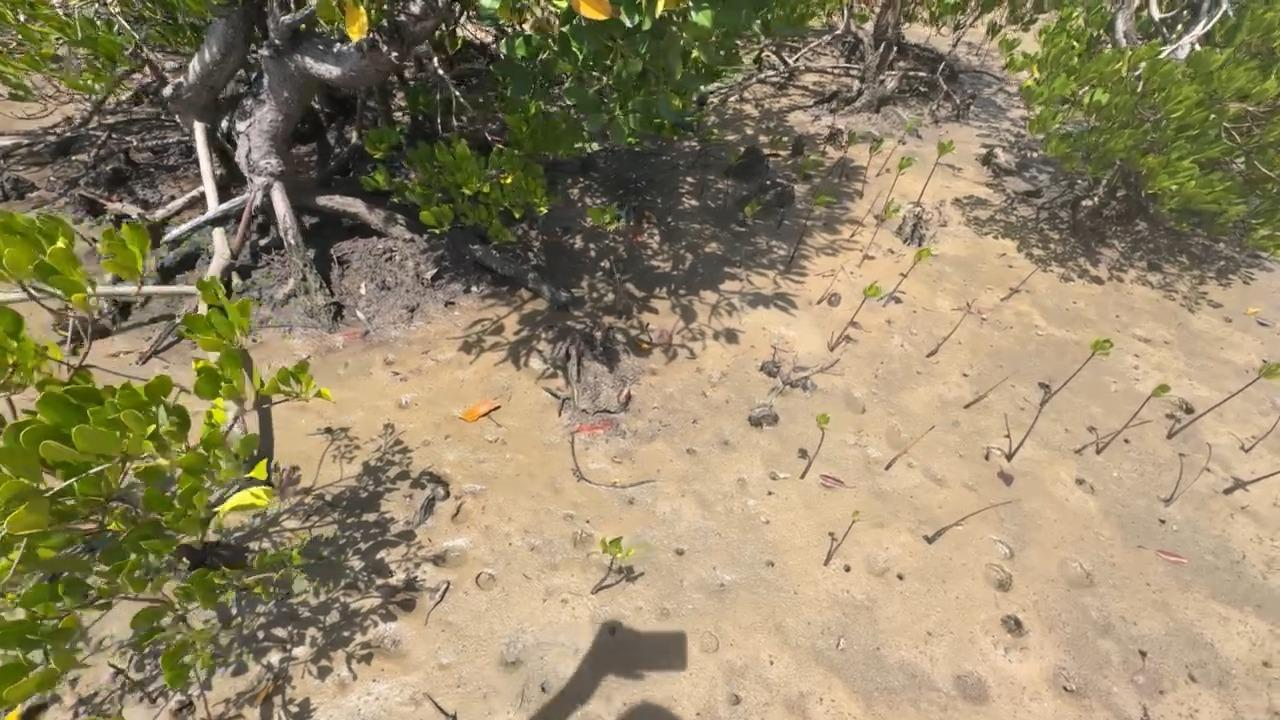Tree: (922, 499, 1019, 545), (590, 535, 635, 594), (823, 511, 860, 567), (798, 412, 829, 478)
